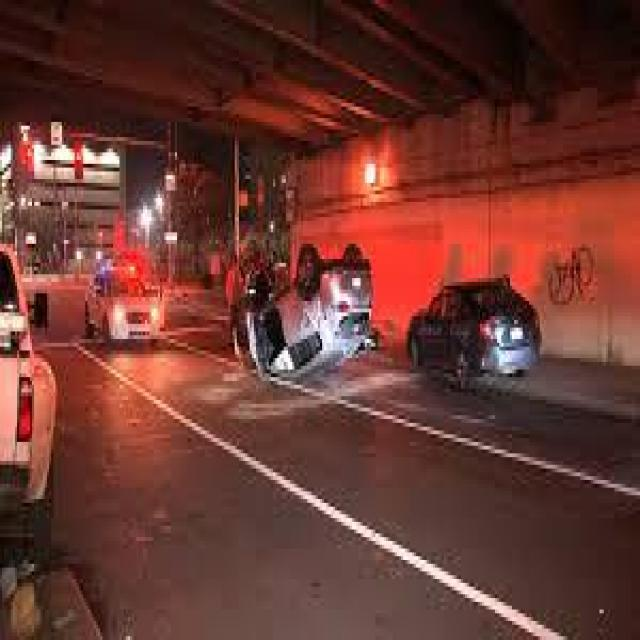accident: (230, 232, 372, 392)
